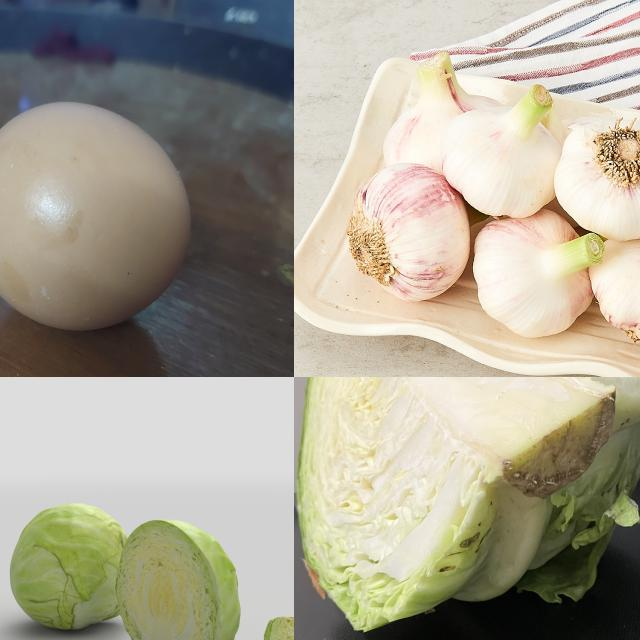cabbage: (295, 378, 640, 637), (7, 504, 141, 635), (113, 516, 241, 640)
egg: (1, 99, 198, 333)
garlic: (346, 160, 478, 307), (474, 206, 610, 341), (437, 85, 565, 225), (377, 52, 501, 172), (554, 116, 640, 243), (585, 193, 640, 352)
